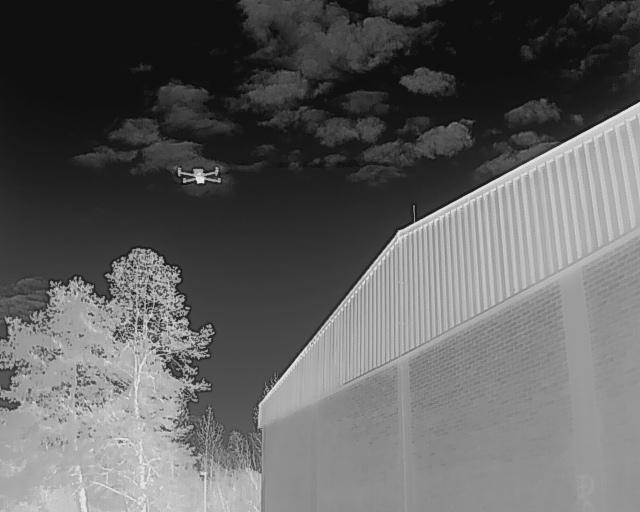drone: (169, 161, 226, 197)
